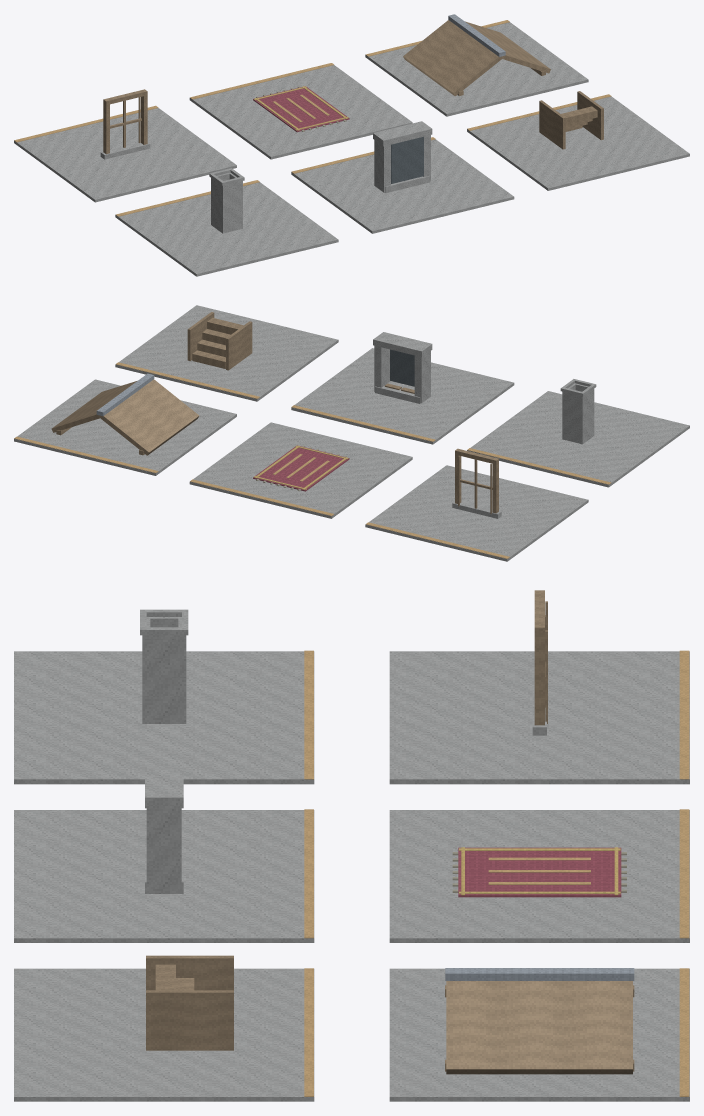
The model's file is level_blockout_kit_house_p02.glb.
The picture shows the model from 3 angles, top to bottom: view 1: azimuth 30°, elevation 25°; view 2: azimuth 150°, elevation 25°; view 3: azimuth 270°, elevation 25°; orthographic projection. The views are drawn at different scales.
Parts seen in each view (by area): view 1: level_blockout_kit_house_p02; view 2: level_blockout_kit_house_p02; view 3: level_blockout_kit_house_p02.
Boxes of the visible parts, box(x1,y1,x2,y2) form: level_blockout_kit_house_p02: box(14, 14, 689, 276); level_blockout_kit_house_p02: box(14, 305, 689, 561); level_blockout_kit_house_p02: box(14, 590, 689, 1101).
Bounding box in the file's own units: 19.65 × 2.29 × 12.6.
8 materials, 8 textured.
